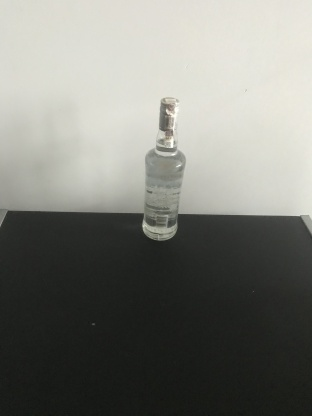nakretka: (157, 95, 180, 132)
